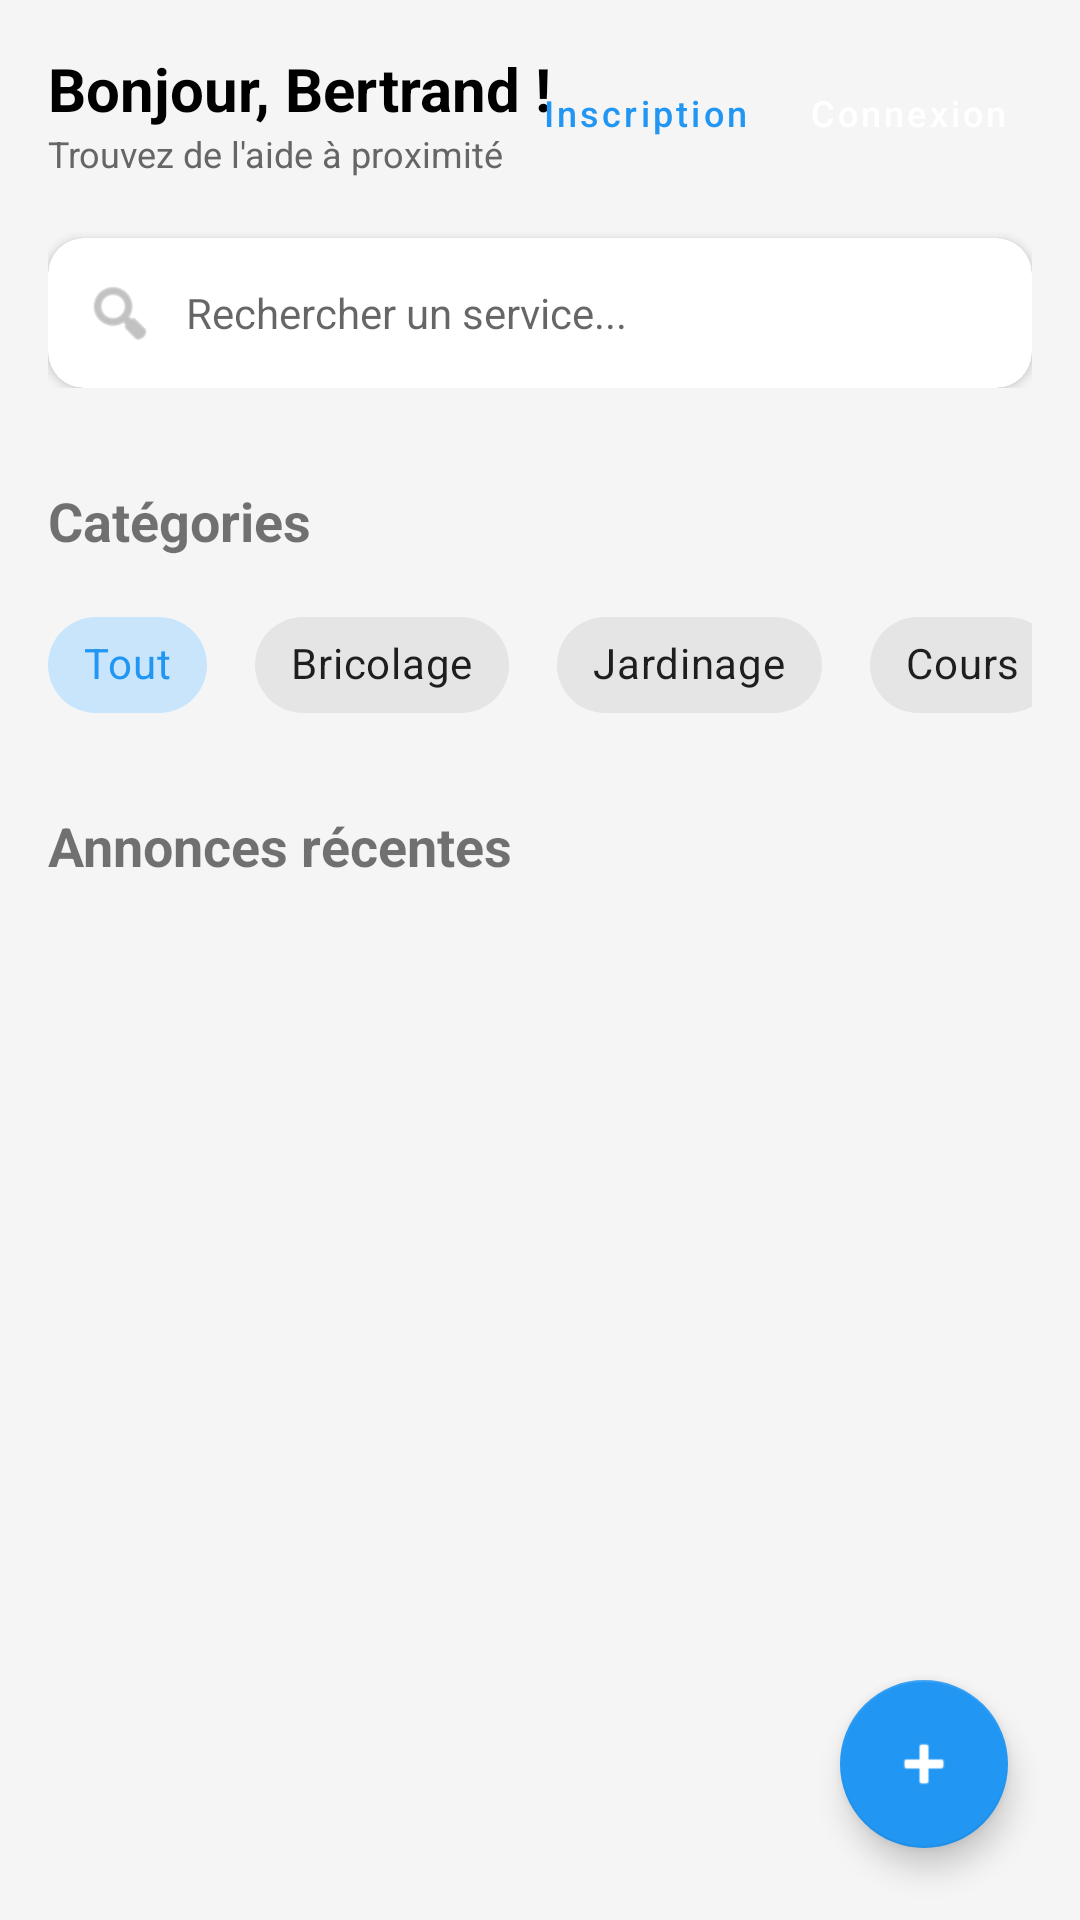

Point at icon controls on the screen. Image size 1080*1920, points as point (x, y).
Ajouter une annonce: point (924, 1764)
Icône de recherche: point (120, 313)
